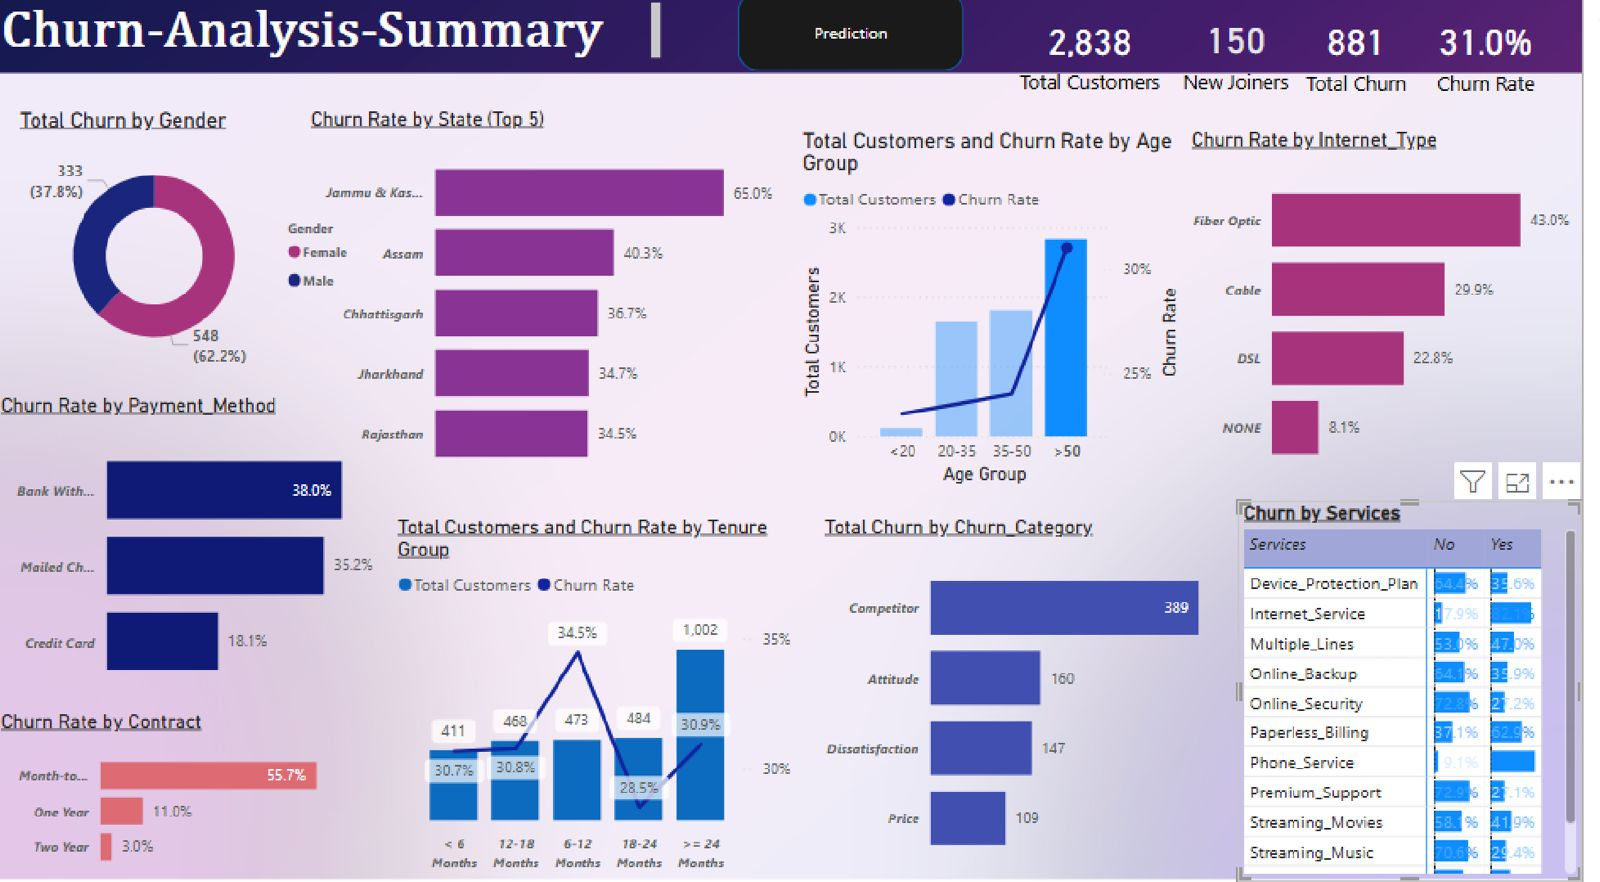

The dashboard page shown, as its layout file describes it:
{"tool":"powerbi","page":{"name":"Summary","canvas":[1280,720],"ordinal":0},"visuals":[{"type":"card","fields":{"Values":["tbl_Measures.Total Customers"]},"box":[804.1,4.7,157.1,90.2],"z":0},{"type":"card","fields":{"Values":["tbl_Measures.New Joiners"]},"box":[923.8,10.9,152.4,76.2],"z":1000},{"type":"card","fields":{"Values":["tbl_Measures.Total Churn"]},"box":[1020.3,12.4,155.5,76.2],"z":2000},{"type":"card","fields":{"Values":["tbl_Measures.Total Rate"]},"box":[1124.5,6.2,155.5,88.7],"z":3000},{"type":"donutChart","fields":{"Category":["prod_Churn.Gender"],"Y":["tbl_Measures.Total Churn"]},"box":[15.3,94.3,284.3,221.8],"z":4000},{"type":"lineStackedColumnComboChart","fields":{"Category":["Mapping_AgeGrp.Age Group"],"Y":["tbl_Measures.Total Customers"],"Y2":["tbl_Measures.Churn Rate"]},"box":[647,110.4,312.6,292.4],"z":5000},{"type":"clusteredBarChart","fields":{"Category":["prod_Churn.Payment_Method"],"Y":["tbl_Measures.Churn Rate"]},"box":[0,325.1,320,255],"z":6000},{"type":"clusteredBarChart","fields":{"Category":["prod_Churn.Contract"],"Y":["tbl_Measures.Churn Rate"]},"box":[0,580.3,300.1,139.3],"z":7000},{"type":"lineStackedColumnComboChart","fields":{"Category":["Mapping_TenureGrp.Tenure Group "],"Y":["tbl_Measures.Total Customers"],"Y2":["tbl_Measures.Churn Rate"]},"box":[320,423.3,326.4,295.8],"z":8000},{"type":"clusteredBarChart","title":"Churn Rate by State (Top 5)","fields":{"Category":["prod_Churn.State"],"Y":["tbl_Measures.Churn Rate"]},"box":[249.6,94.9,384.3,307.8],"z":9000},{"type":"clusteredBarChart","fields":{"Category":["prod_Churn.Churn_Category"],"Y":["tbl_Measures.Total Churn"]},"box":[664.2,423.3,336.6,295.8],"z":10000},{"type":"clusteredBarChart","fields":{"Category":["prod_Churn.Internet_Type"],"Y":["tbl_Measures.Churn Rate"]},"box":[959.6,110.4,320.4,292.4],"z":11000},{"type":"pivotTable","title":"Churn by Services","fields":{"Rows":["prod_Services.Services"],"Columns":["prod_Services.Status"],"Values":["Mapping_AgeGrp.Churn Rate by services"]},"box":[1001.6,412.2,278.4,306.4],"z":12000},{"type":"textbox","box":[0,4.6,542,56.7],"z":13000},{"type":"shape","box":[598.7,1.5,182.2,64.3],"z":13001}]}

Visuals, with their boxes in screenshot pixels (x1, y1, x2, y2), scaled from the page's 1280x720 canvas onto the 1600x882 screenshot:
card - tbl_Measures.Total Customers: (1005,6,1202,116)
card - tbl_Measures.New Joiners: (1155,13,1345,107)
card - tbl_Measures.Total Churn: (1275,15,1470,109)
card - tbl_Measures.Total Rate: (1406,8,1599,116)
donutChart - prod_Churn.Gender x tbl_Measures.Total Churn: (19,116,374,387)
lineStackedColumnComboChart - Mapping_AgeGrp.Age Group x tbl_Measures.Total Customers: (809,135,1200,493)
clusteredBarChart - prod_Churn.Payment_Method x tbl_Measures.Churn Rate: (0,398,400,711)
clusteredBarChart - prod_Churn.Contract x tbl_Measures.Churn Rate: (0,711,375,881)
lineStackedColumnComboChart - Mapping_TenureGrp.Tenure Group  x tbl_Measures.Total Customers: (400,519,808,881)
"Churn Rate by State (Top 5)" clusteredBarChart: (312,116,792,493)
clusteredBarChart - prod_Churn.Churn_Category x tbl_Measures.Total Churn: (830,519,1251,881)
clusteredBarChart - prod_Churn.Internet_Type x tbl_Measures.Churn Rate: (1200,135,1599,493)
"Churn by Services" pivotTable: (1252,505,1599,880)
textbox: (0,6,678,75)
shape: (748,2,976,81)
